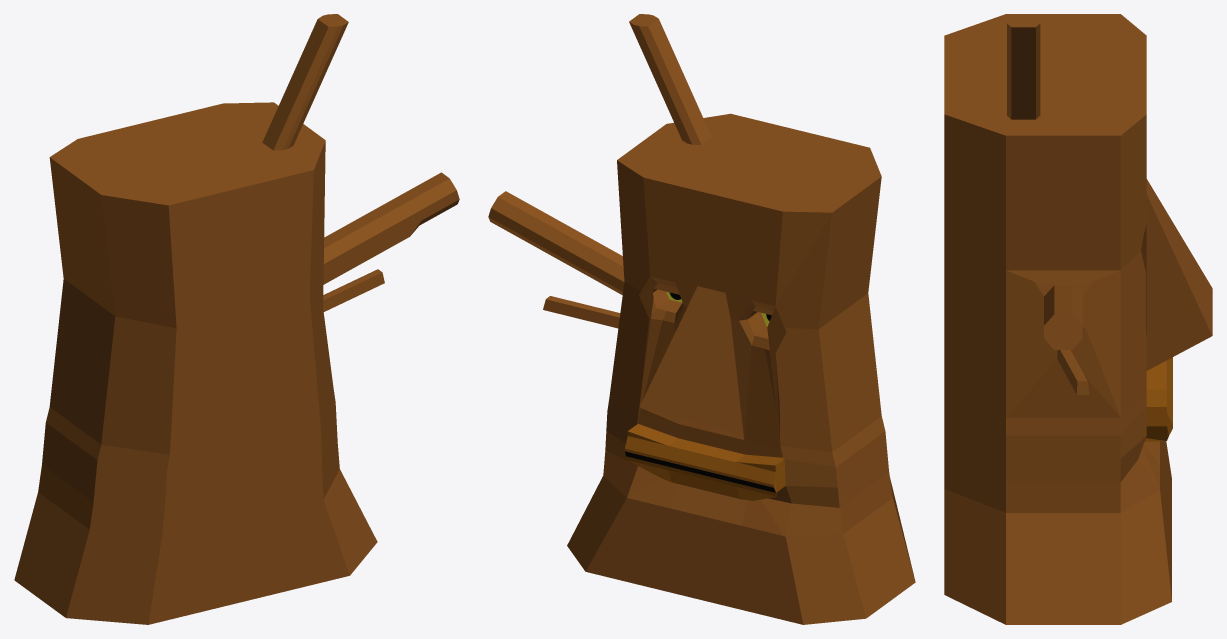
The model's file is Wise Tree.fbx.
3 views of the same model, side by side, from view 1: azimuth 30°, elevation 25°; view 2: azimuth 150°, elevation 25°; view 3: azimuth 270°, elevation 25° (orthographic). The views are drawn at different scales.
Parts seen in each view (by area): view 1: Cubo; view 2: Cubo; view 3: Cubo.
Part boxes in pixels (<box>): Cubo: <box>14,14,459,624</box>; Cubo: <box>488,14,915,624</box>; Cubo: <box>944,14,1212,624</box>.
Bounding box in the file's own units: 525 × 637 × 265.
